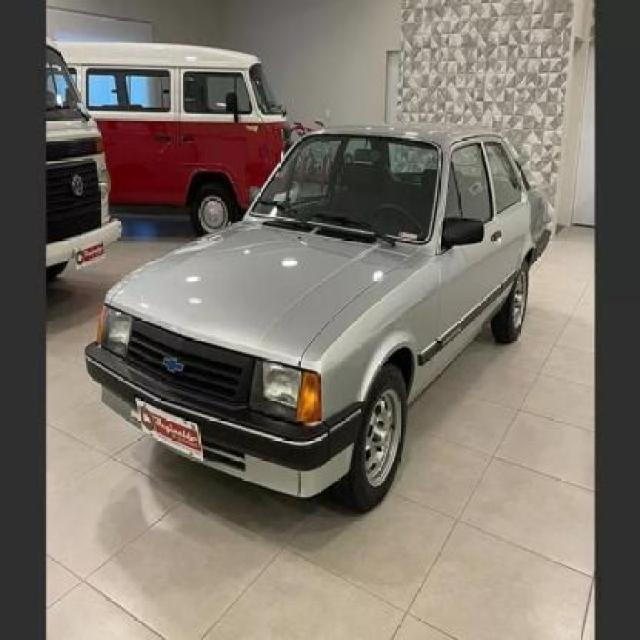car: (82, 126, 558, 520)
